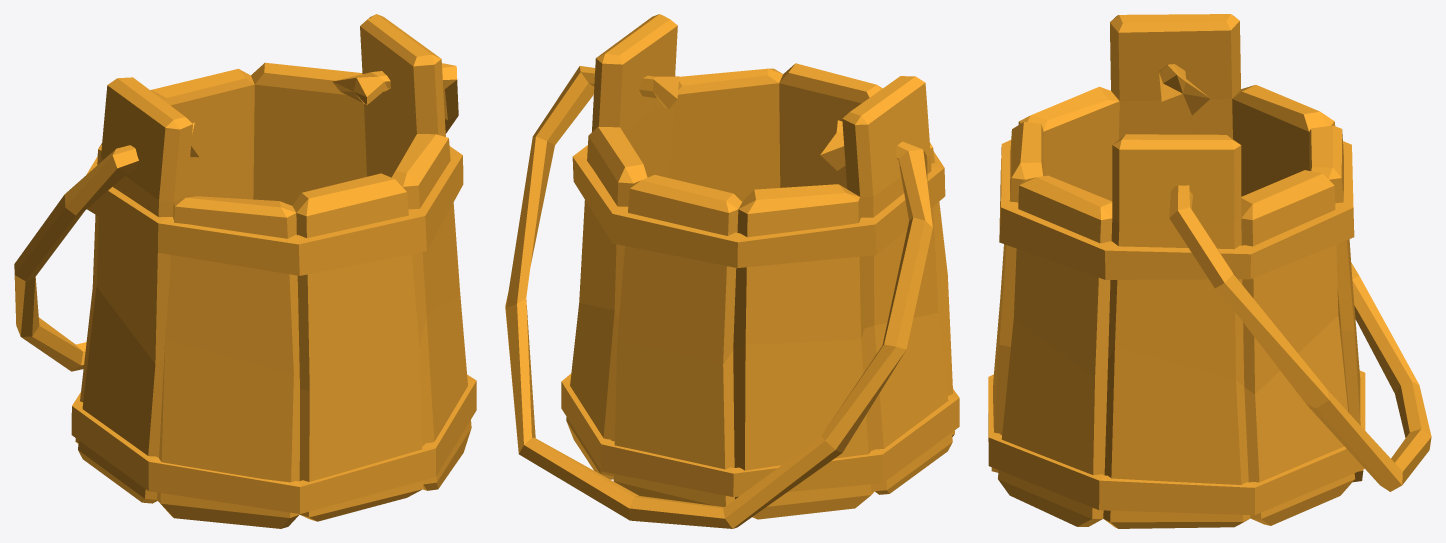
Rendered from SM_Bucket_Wooden_B_Fantasy.fbx.
The picture shows the model from 3 angles, left to right: view 1: azimuth 30°, elevation 25°; view 2: azimuth 150°, elevation 25°; view 3: azimuth 270°, elevation 25°; orthographic projection.
Visible parts, largest first — view 1: bucket-wooden-b-fantasy-base, bucket-wooden-b-fantasy-handle; view 2: bucket-wooden-b-fantasy-base, bucket-wooden-b-fantasy-handle; view 3: bucket-wooden-b-fantasy-base, bucket-wooden-b-fantasy-handle.
Boxes of the visible parts, x1,y1,x2,y2 form: bucket-wooden-b-fantasy-base: (71,14,476,528); bucket-wooden-b-fantasy-handle: (14,63,458,371); bucket-wooden-b-fantasy-base: (561,14,959,519); bucket-wooden-b-fantasy-handle: (505,66,932,528); bucket-wooden-b-fantasy-base: (988,14,1365,528); bucket-wooden-b-fantasy-handle: (1159,64,1431,491).
Bounding box in the file's own units: 0.3616 × 0.323 × 0.3386.
